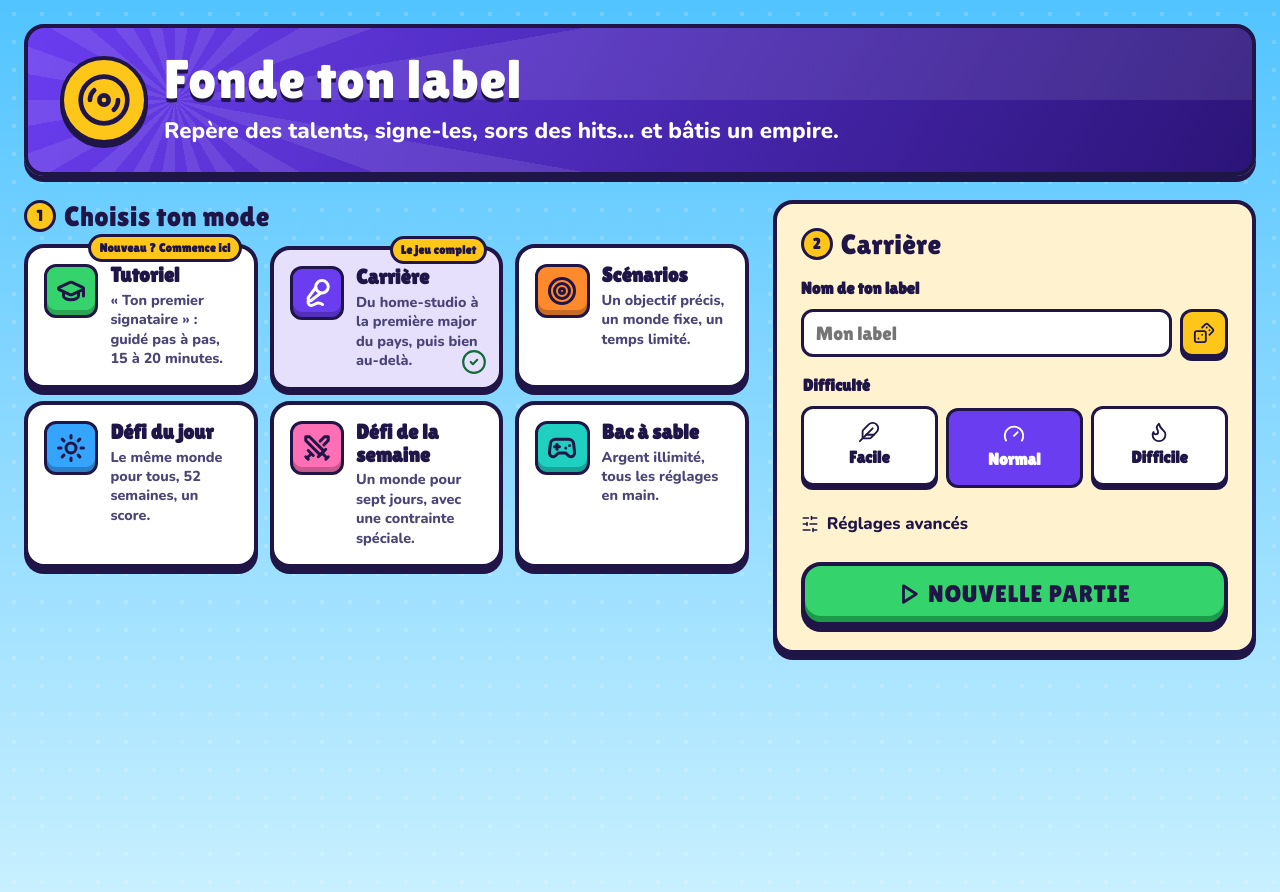
Test: écran International › reste fermé avant le palier Major
Click the button "Nouvelle partie" at {"x": 1014, "y": 594}, box left=801, top=562, right=1228, bottom=626
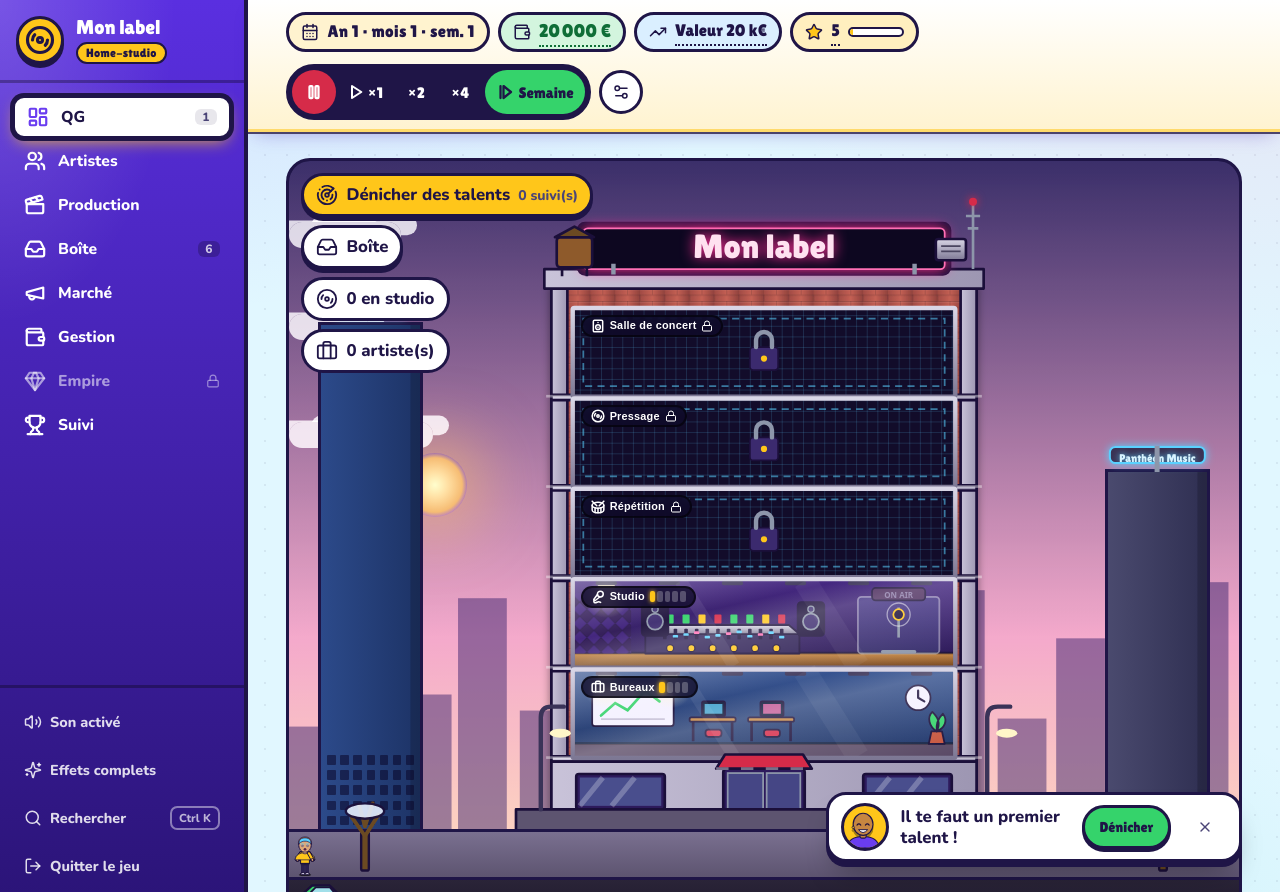
expect the navigation bar named "Écrans du jeu" is shown: met, box left=12, top=95, right=232, bottom=447
Click the button "Empire" at {"x": 122, "y": 381}, box left=12, top=359, right=232, bottom=403
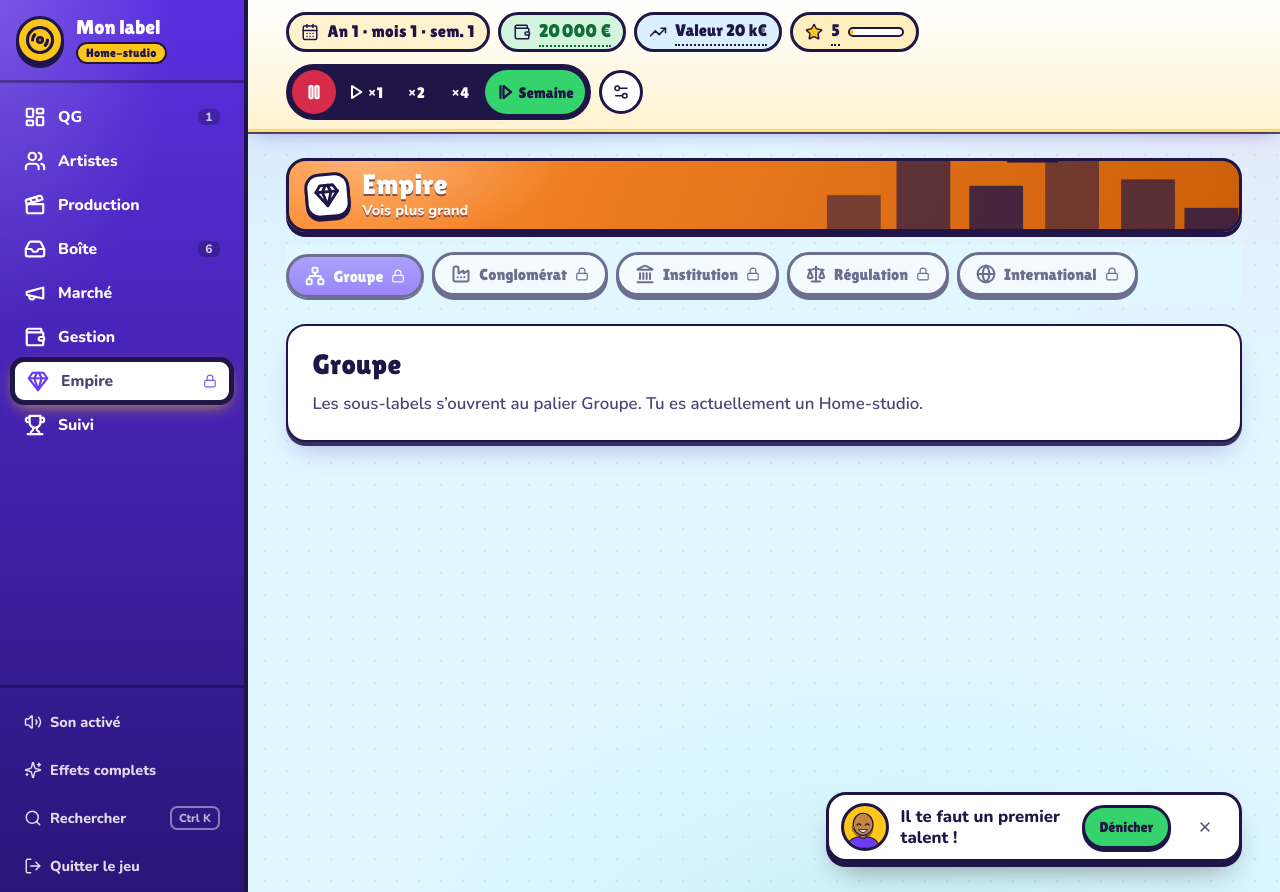
Click the tab "International" at {"x": 1047, "y": 274}, box left=957, top=252, right=1138, bottom=296
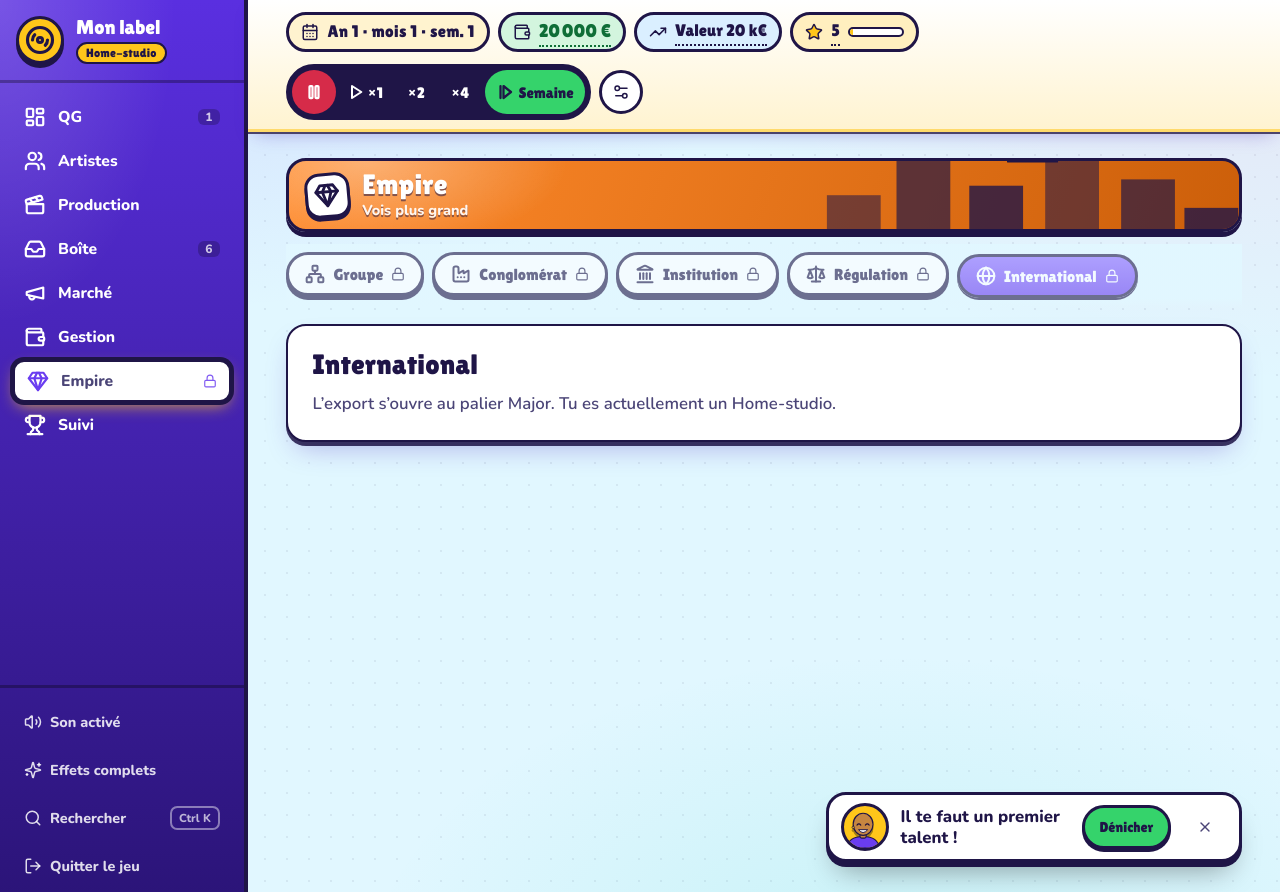
expect the text "L’export s’ouvre au palier Major" is shown: met, box left=312, top=392, right=732, bottom=415
